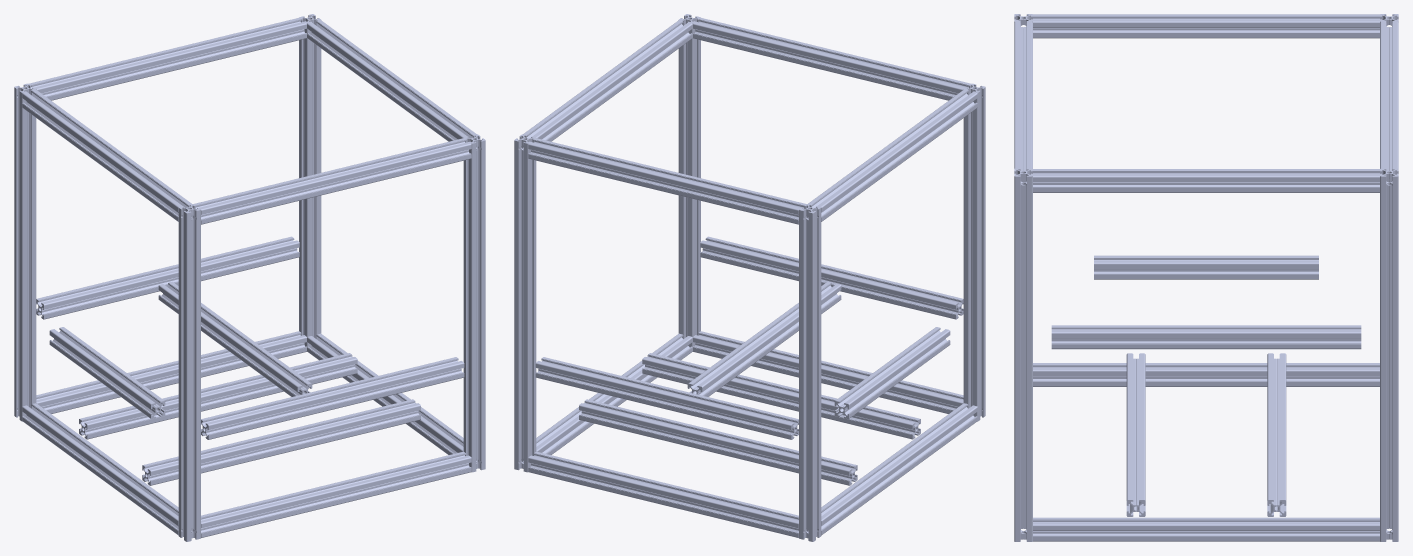
The model's file is TXLB-TXLB-VORON2.4-H7-250-M5.glb.
3 renders of one model, left to right at view 1: azimuth 30°, elevation 25°; view 2: azimuth 150°, elevation 25°; view 3: azimuth 270°, elevation 25°, orthographic. The views are drawn at different scales.
Parts seen in each view (by area): view 1: NAUO1; view 2: NAUO1; view 3: NAUO1.
Boxes of the visible parts, x1,y1,x2,y2 form: NAUO1: (14, 14, 485, 541); NAUO1: (514, 14, 985, 541); NAUO1: (1014, 14, 1398, 541).
Bounding box in the file's own units: 0.41 × 0.43 × 0.41.
